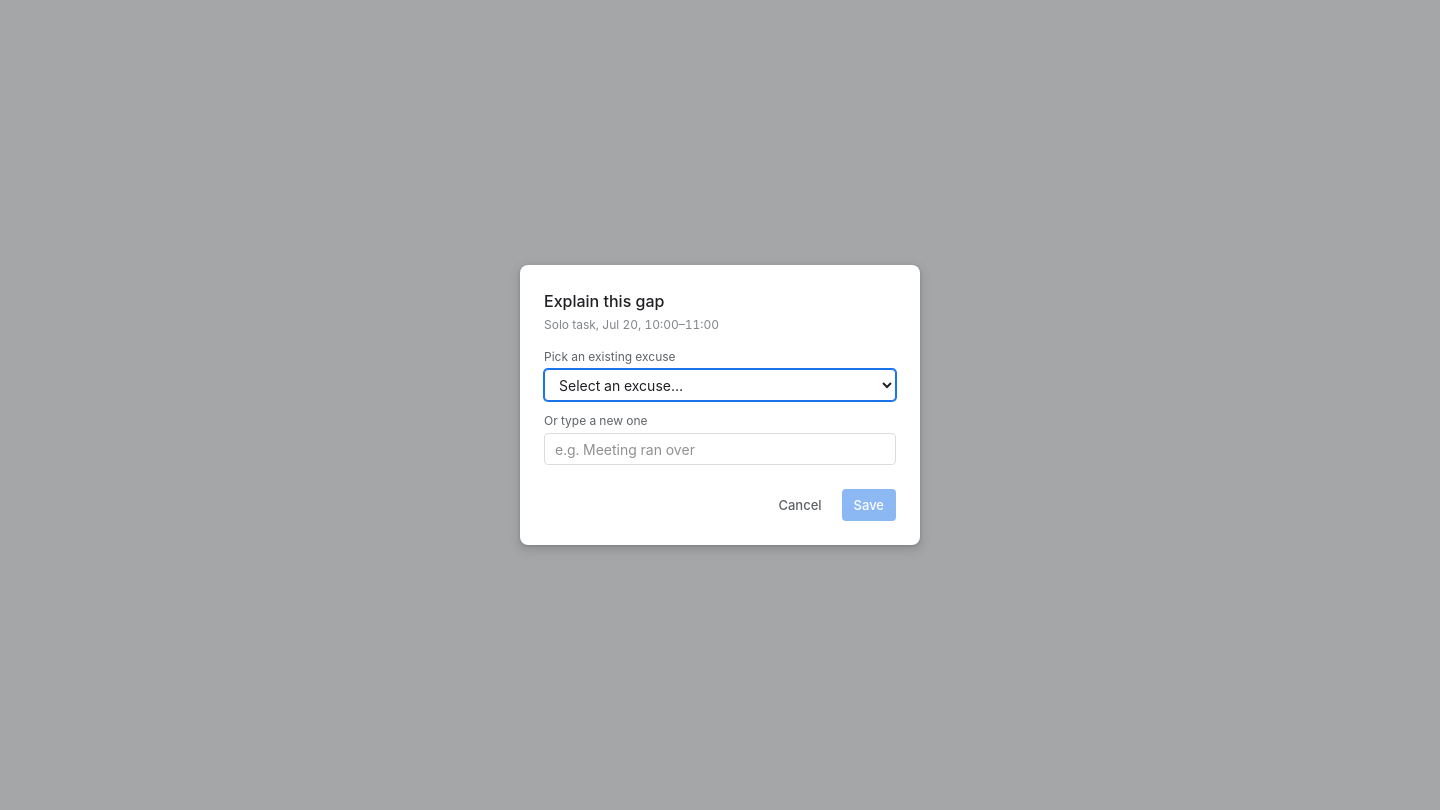
Test: ExplainGapDialog › shows an AlertDialog with the error message on failure
This screenshot has width=1440, height=810.
Type "Got distracted" into the field labelled "Or type a new one".
click(720, 449); type("Got distracted")  # box [544,433,896,465]
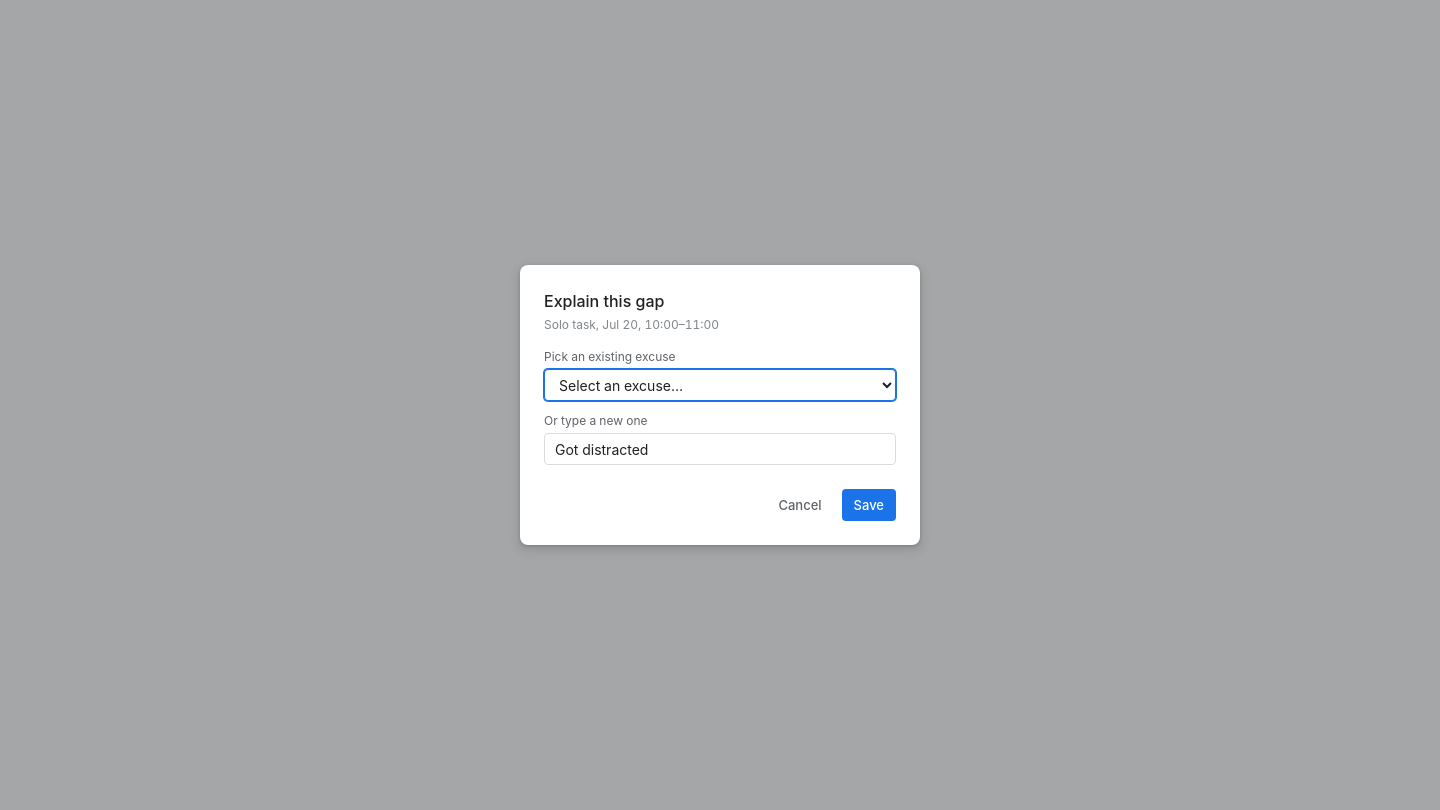
Click the button "Save".
click(869, 505)  # box [842,489,896,521]
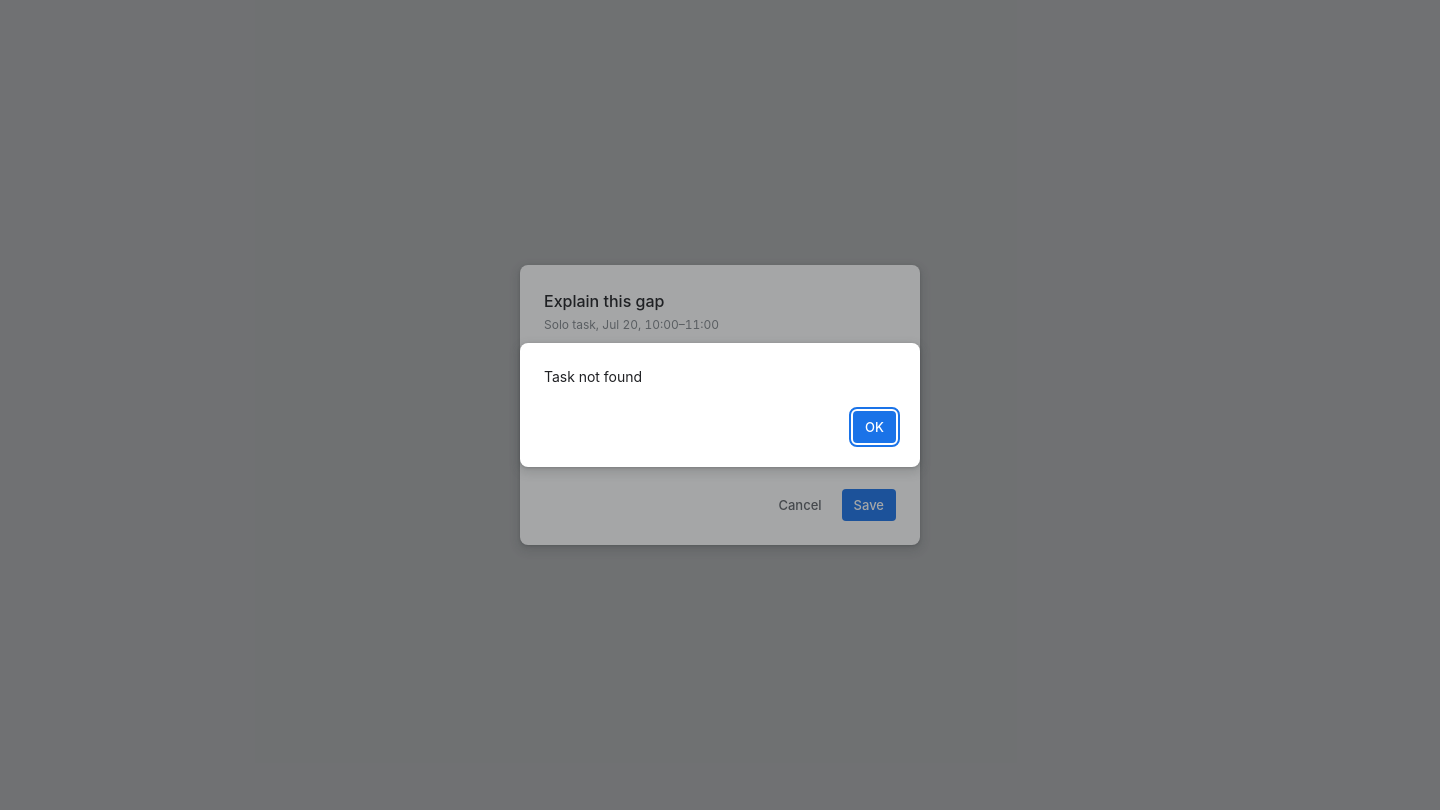
Check: the text "Task not found" is shown, box [544,368,642,385]
